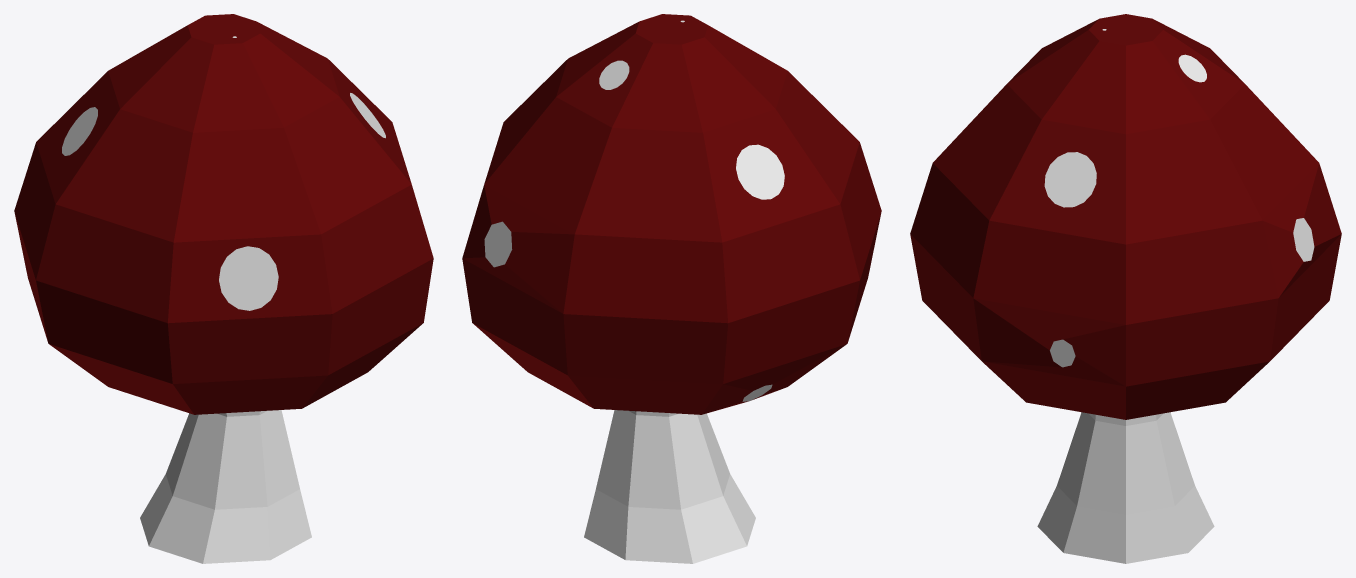
Rendered from Mushroom_004.fbx.
3 views of the same model, side by side, from view 1: azimuth 30°, elevation 25°; view 2: azimuth 150°, elevation 25°; view 3: azimuth 270°, elevation 25° (orthographic).
Visible parts, largest first — view 1: Mushroom.004; view 2: Mushroom.004; view 3: Mushroom.004.
Boxes of the visible parts, box(x1,y1,x2,y2) form: Mushroom.004: box(14, 14, 433, 563); Mushroom.004: box(462, 14, 881, 563); Mushroom.004: box(910, 14, 1341, 563).
Bounding box in the file's own units: 39.09 × 49.53 × 39.09.
